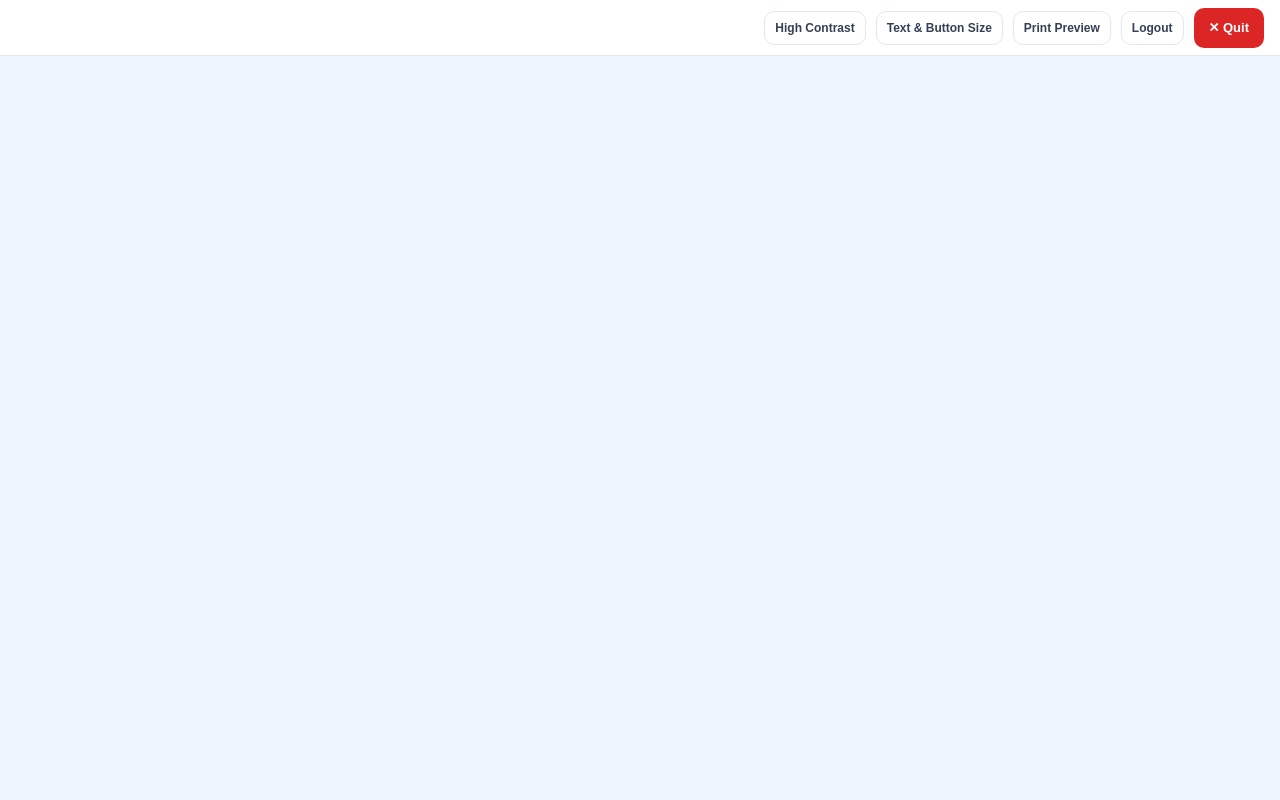
TopBar Component - Comprehensive Coverage › Button Interactions › colors button is clickable
This screenshot has width=1280, height=800.
Click the button "High Contrast": [815, 28] box [764,10,866,44]
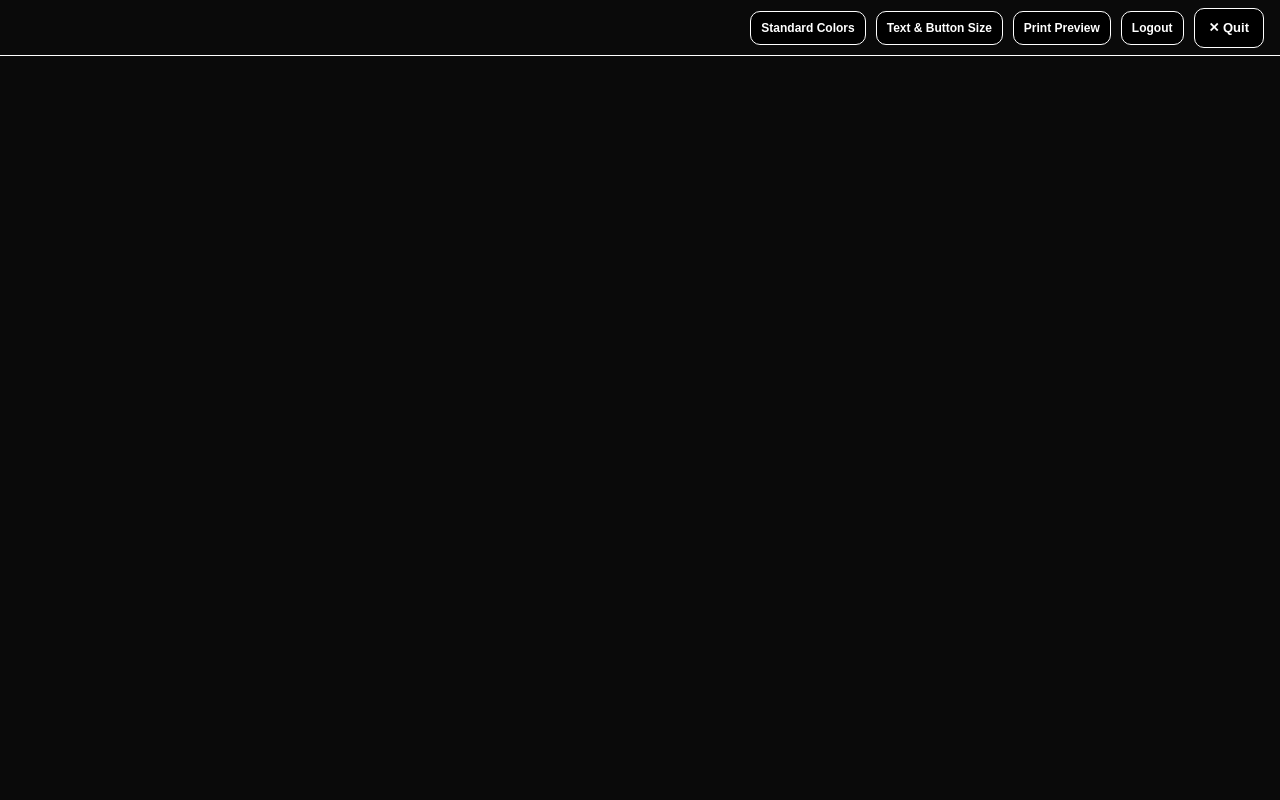
Now the button "Standard Colors" is shown, box [750,10,866,44]
